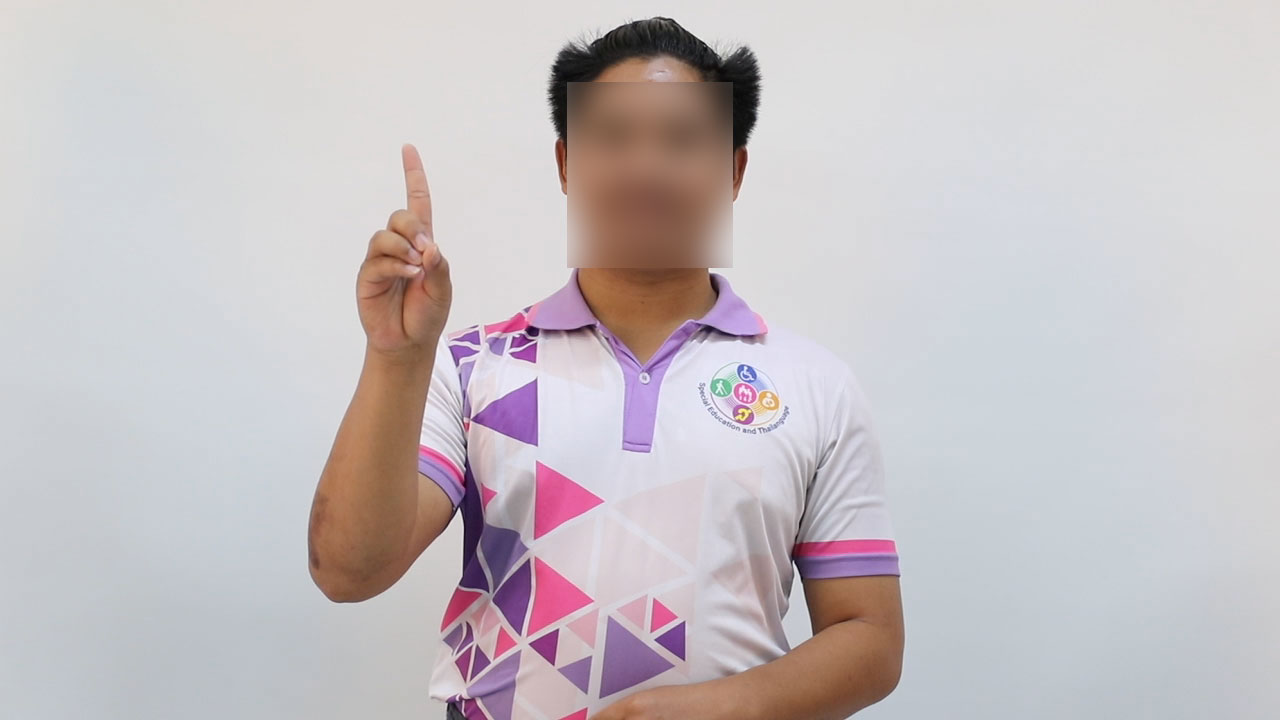dor: (340, 138, 462, 361)
